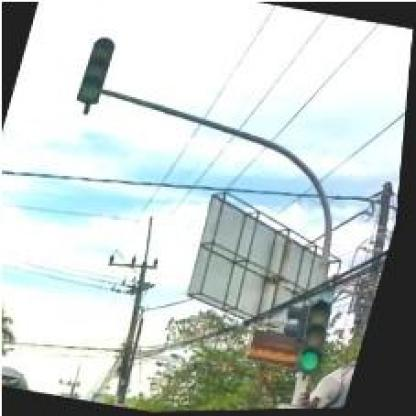green: (72, 33, 118, 106), (300, 300, 341, 374)
